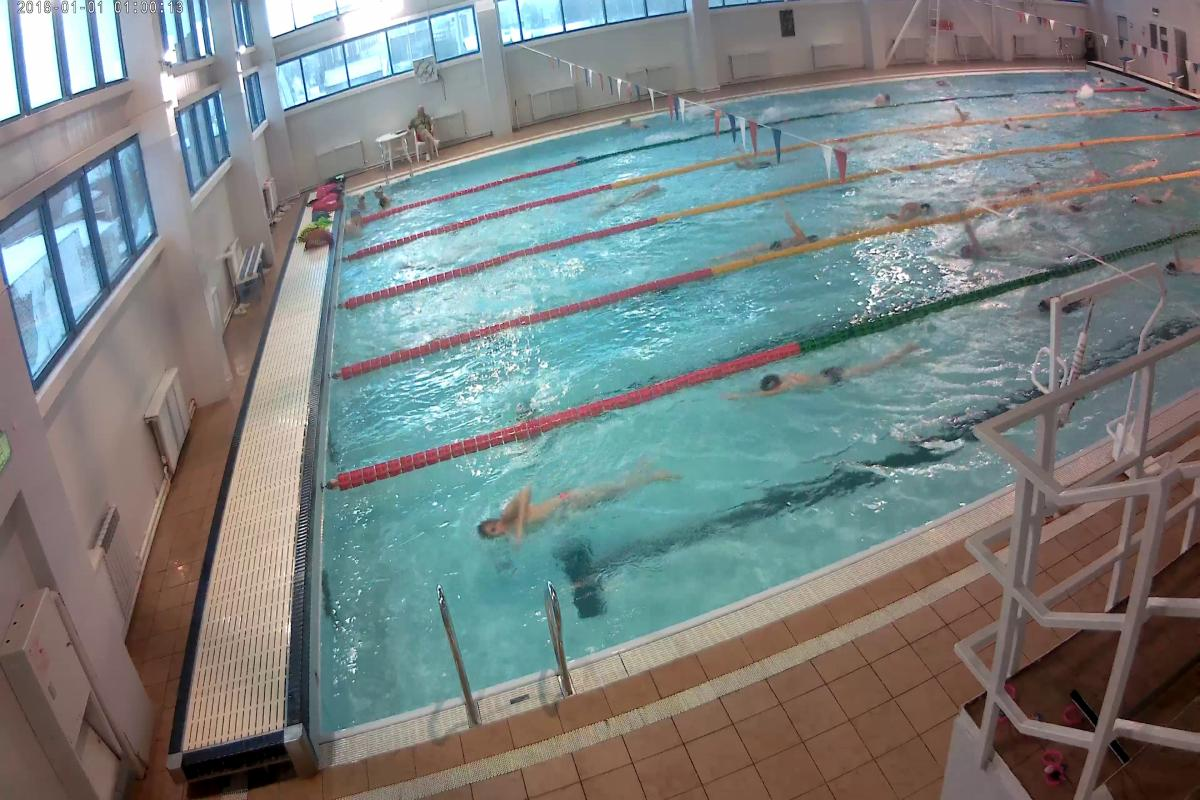swimmer: (719, 342, 919, 404), (470, 470, 642, 541), (950, 220, 1019, 266), (755, 217, 829, 254), (1125, 180, 1188, 214), (875, 192, 938, 225), (606, 181, 669, 213), (1166, 246, 1200, 278), (1058, 194, 1105, 217)
